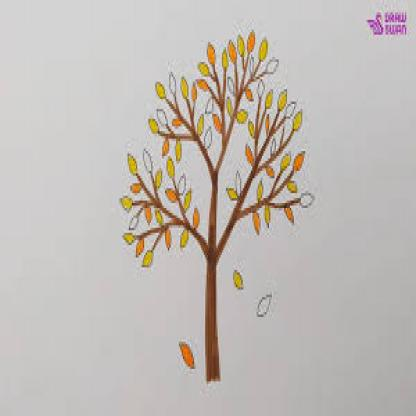trunk_straight: (202, 278, 221, 370)
